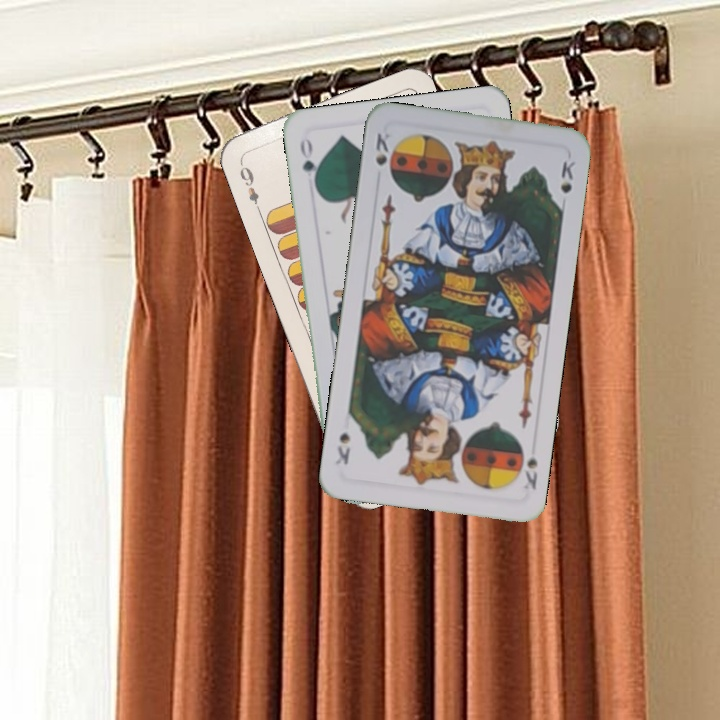E9: (235, 157, 264, 214)
GO: (296, 133, 322, 191)
SK: (371, 129, 394, 168), (520, 452, 540, 492)
